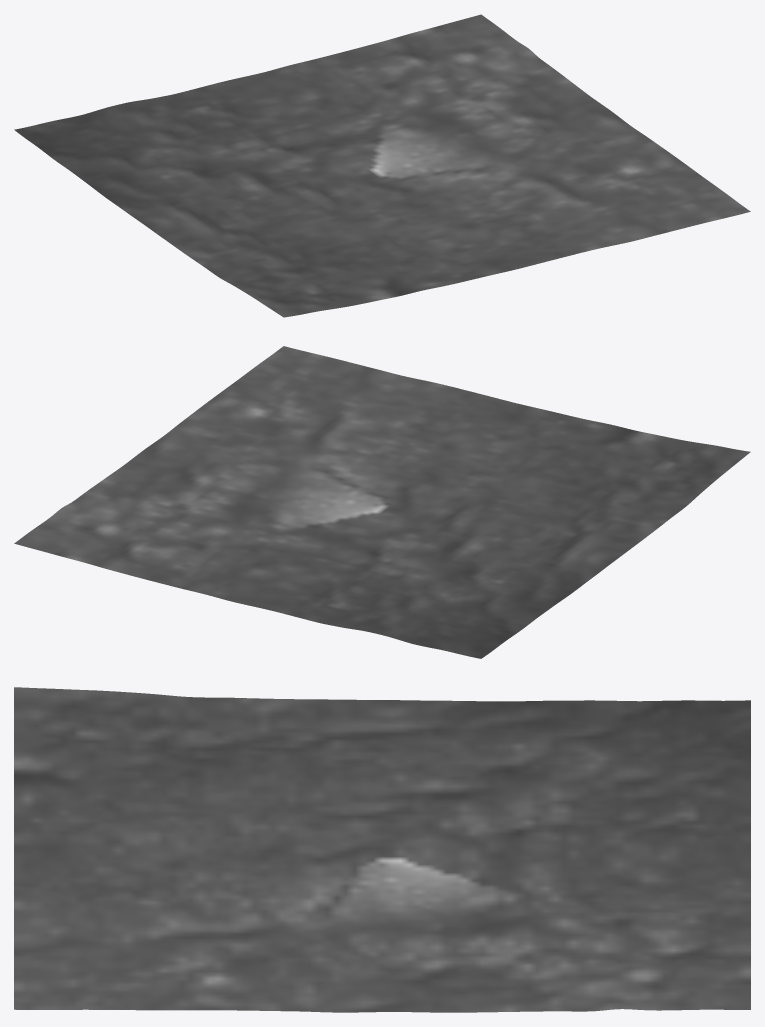
The model's file is refined_mesh.glb.
3 renders of one model, top to bottom at view 1: azimuth 30°, elevation 25°; view 2: azimuth 150°, elevation 25°; view 3: azimuth 270°, elevation 25°, orthographic. The views are drawn at different scales.
Size of the model in its own units: 80 by 2.27 by 80.
Materials: 1 (1 with a texture image).
